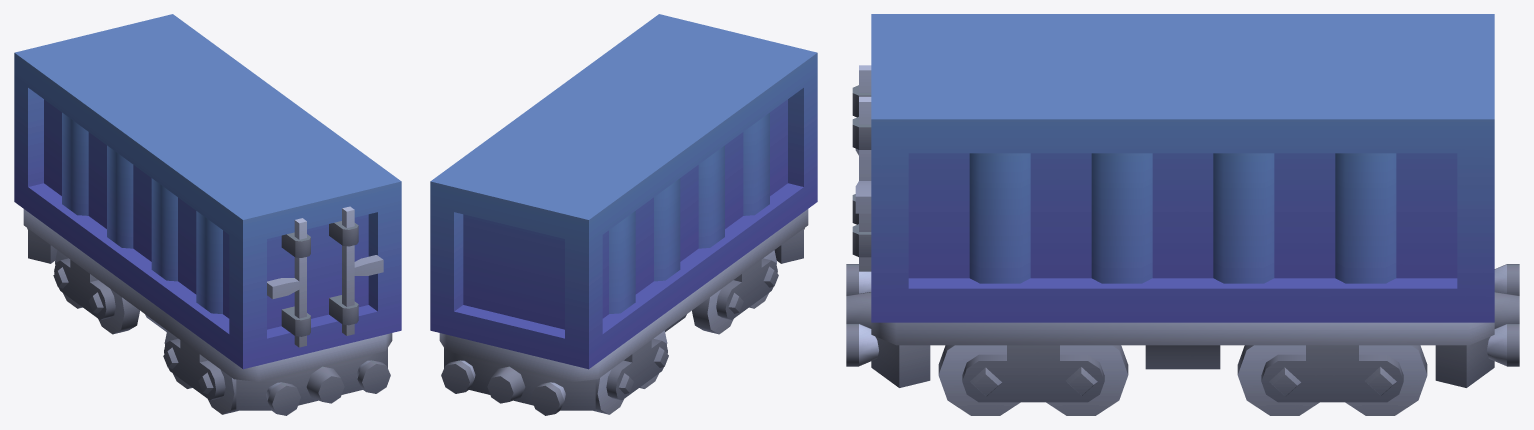
Rendered from tr-train-carriage-container-blue.glb.
3 renders of one model, left to right at view 1: azimuth 30°, elevation 25°; view 2: azimuth 150°, elevation 25°; view 3: azimuth 270°, elevation 25°, orthographic. The views are drawn at different scales.
Visible parts, largest first — view 1: train-carriage-container-blue; view 2: train-carriage-container-blue; view 3: train-carriage-container-blue.
Boxes of the visible parts, left/top/right/bottom form: train-carriage-container-blue: left=14, top=14, right=401, bottom=415; train-carriage-container-blue: left=430, top=14, right=817, bottom=415; train-carriage-container-blue: left=846, top=14, right=1519, bottom=415.
Bounding box in the file's own units: 1 × 1.36 × 2.7.
1 material, 1 textured.
